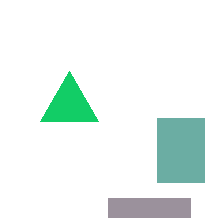rectangle: (157, 118, 204, 182), (108, 198, 190, 217)
triangle: (40, 71, 98, 121)
